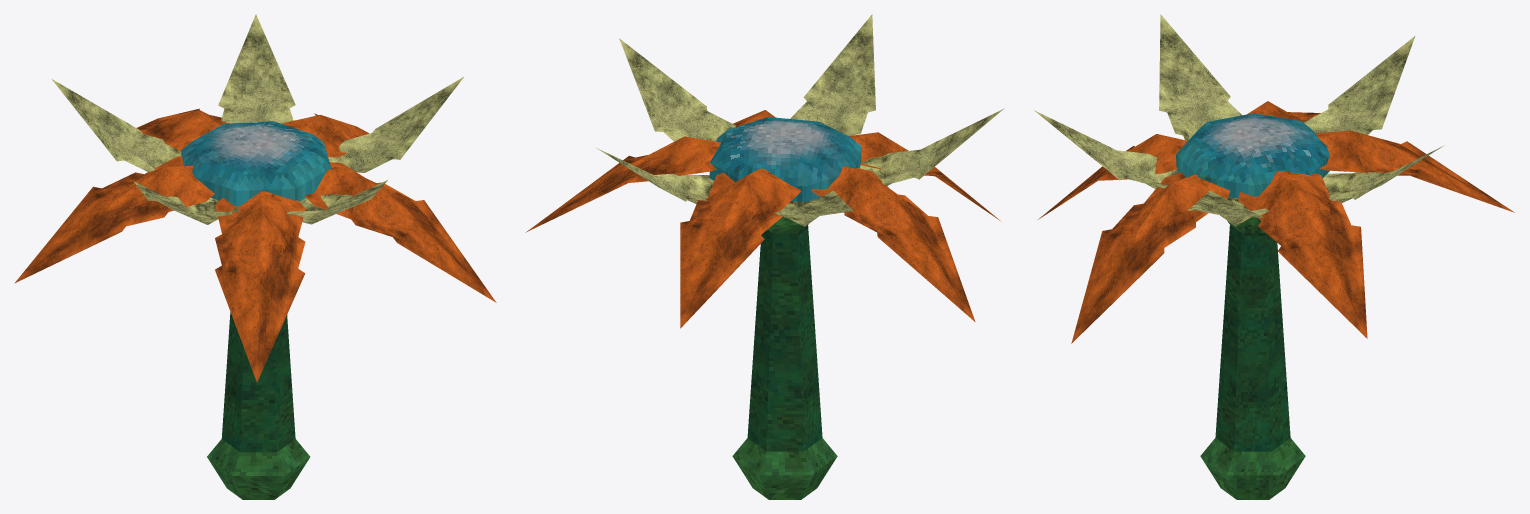
File: flwr_02.glb
3 renders of one model, left to right at view 1: azimuth 30°, elevation 25°; view 2: azimuth 150°, elevation 25°; view 3: azimuth 270°, elevation 25°, orthographic.
Parts seen in each view (by area): view 1: FLWR_02-no-col; view 2: FLWR_02-no-col; view 3: FLWR_02-no-col.
Boxes of the visible parts, left/top/right/bottom form: FLWR_02-no-col: left=14, top=14, right=496, bottom=499; FLWR_02-no-col: left=525, top=14, right=1004, bottom=499; FLWR_02-no-col: left=1034, top=14, right=1514, bottom=499.
Bounding box in the file's own units: 2.84 × 2.5 × 2.8.
1 material, 1 textured.
